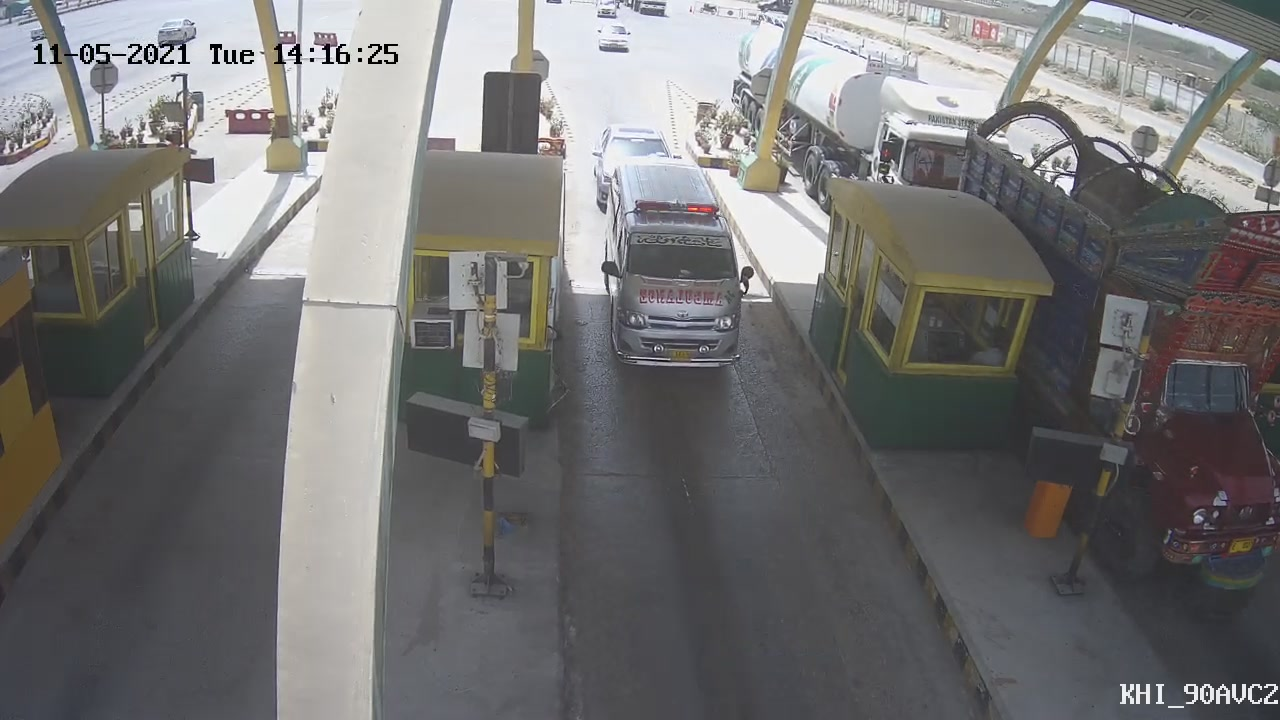F2: (600, 146, 762, 398)
